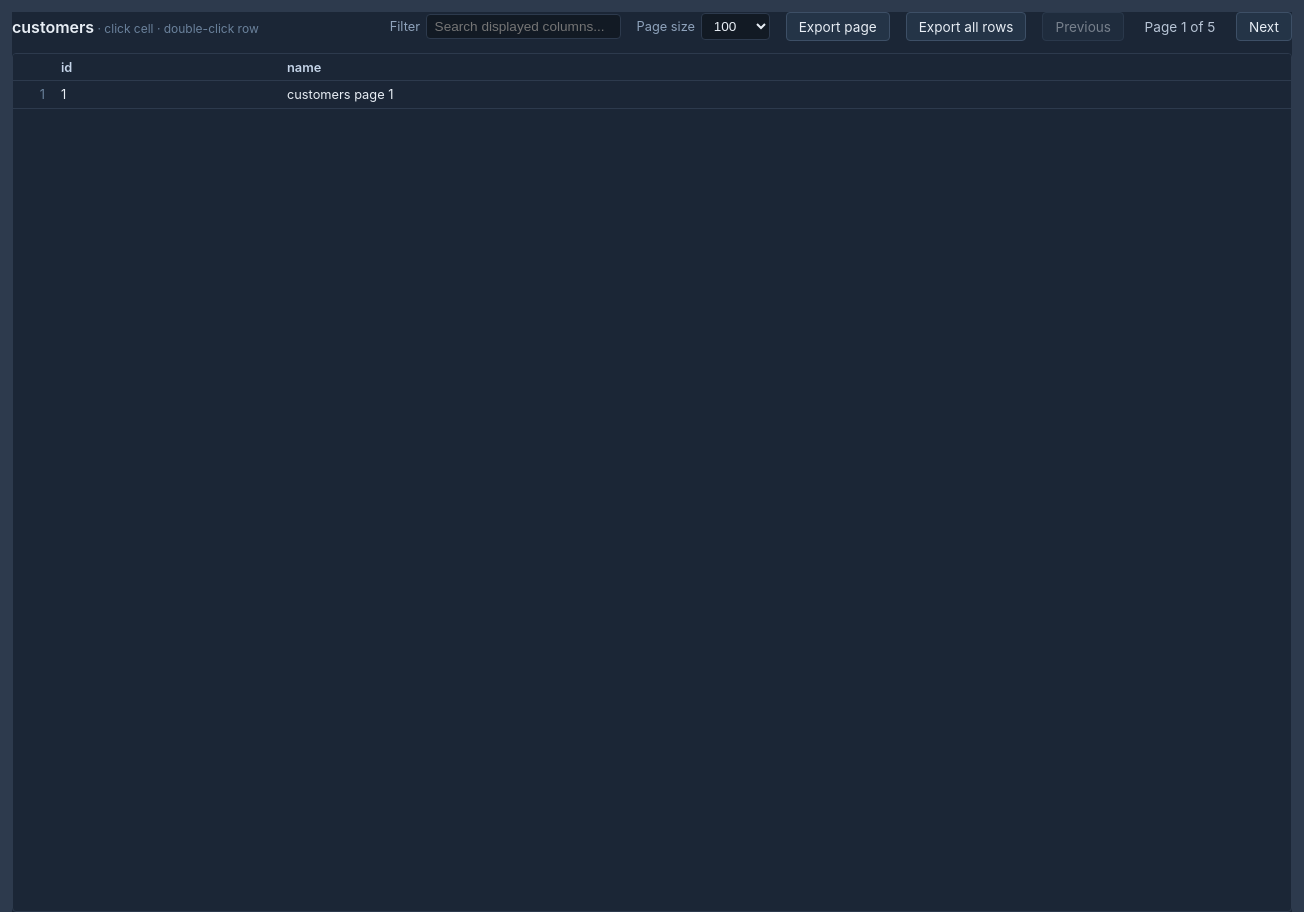
Test: DataGrid › exports every row and reports where it went
The width and height of the screenshot is (1304, 912).
Expected: the button "customers page 1" is shown, left=287, top=87, right=1283, bottom=102
Click the button "Export all rows".
click(966, 27)  # box left=906, top=12, right=1026, bottom=41
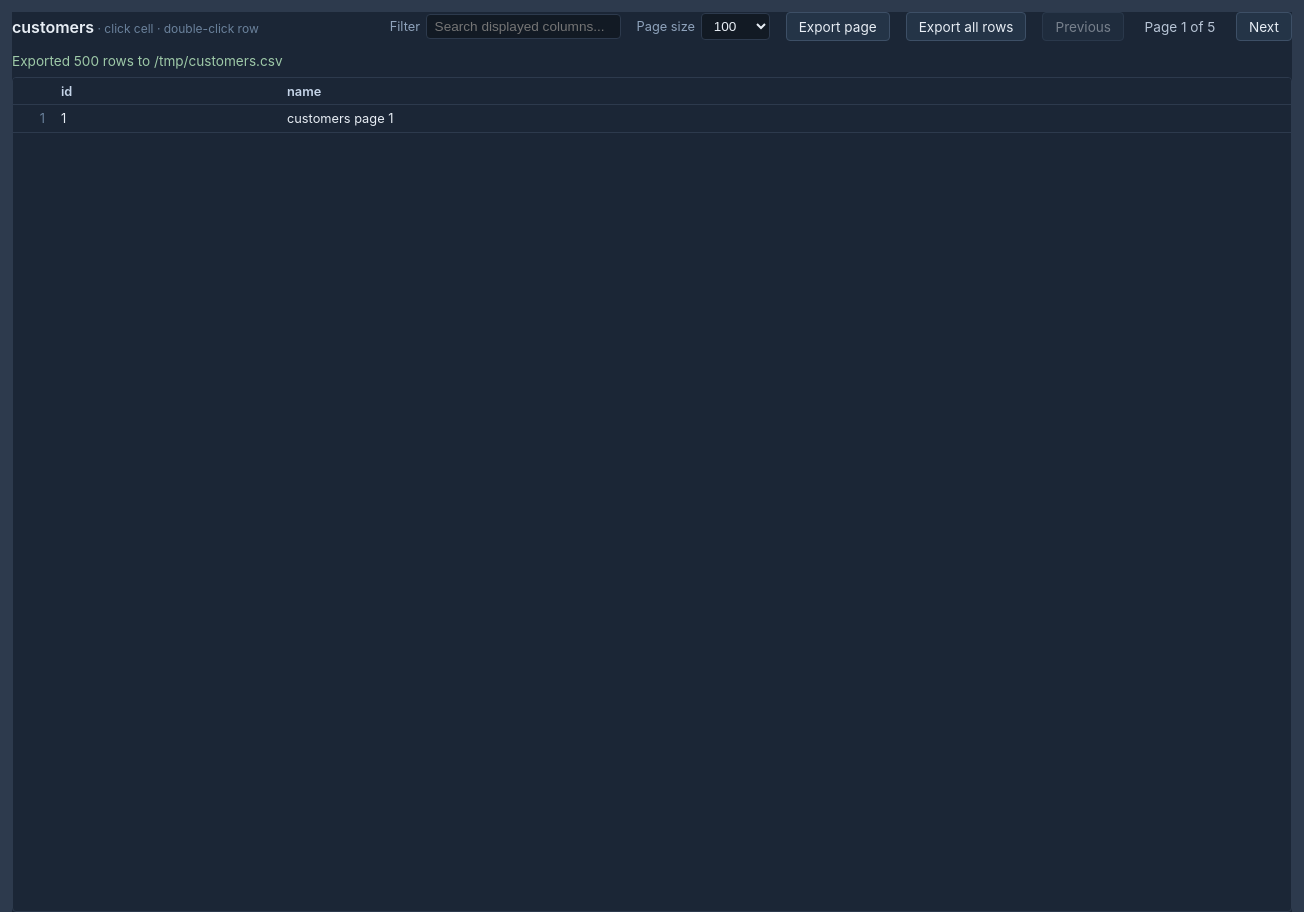
Expected: the text "Exported 500 rows to /tmp/customers.csv" is shown, left=12, top=53, right=283, bottom=69
